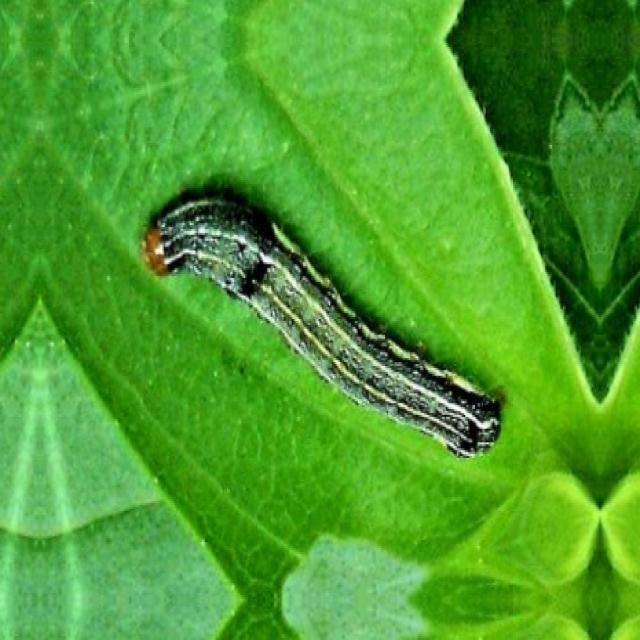Armyworm: (133, 125, 512, 489)
